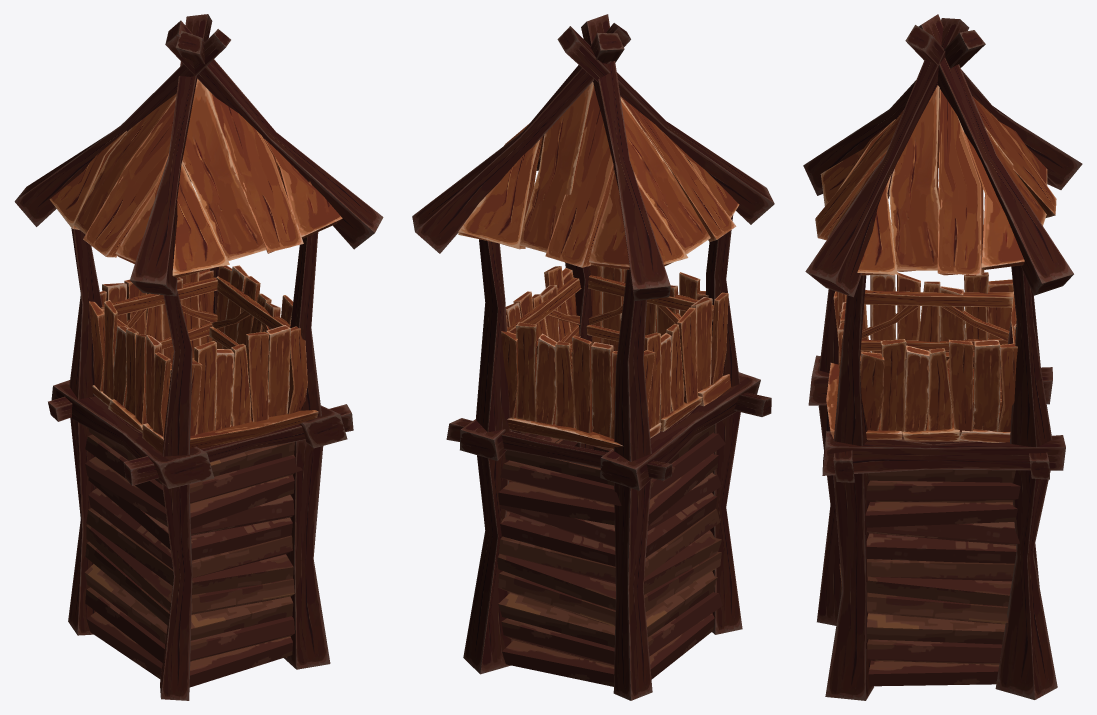
The model's file is SM_PROP_watchtower_wood_02_small.glb.
The picture shows the model from 3 angles, left to right: view 1: azimuth 30°, elevation 25°; view 2: azimuth 150°, elevation 25°; view 3: azimuth 270°, elevation 25°; orthographic projection. The views are drawn at different scales.
Parts seen in each view (by area): view 1: SM_PROP_watchtower_wood_02_small_EXPORT; view 2: SM_PROP_watchtower_wood_02_small_EXPORT; view 3: SM_PROP_watchtower_wood_02_small_EXPORT.
Boxes of the visible parts, left/top/right/bottom form: SM_PROP_watchtower_wood_02_small_EXPORT: left=14, top=14, right=383, bottom=700; SM_PROP_watchtower_wood_02_small_EXPORT: left=412, top=14, right=774, bottom=700; SM_PROP_watchtower_wood_02_small_EXPORT: left=803, top=14, right=1082, bottom=700.
Bounding box in the file's own units: 5.01 × 11.3 × 4.48.
Materials: 3 (3 with a texture image).
